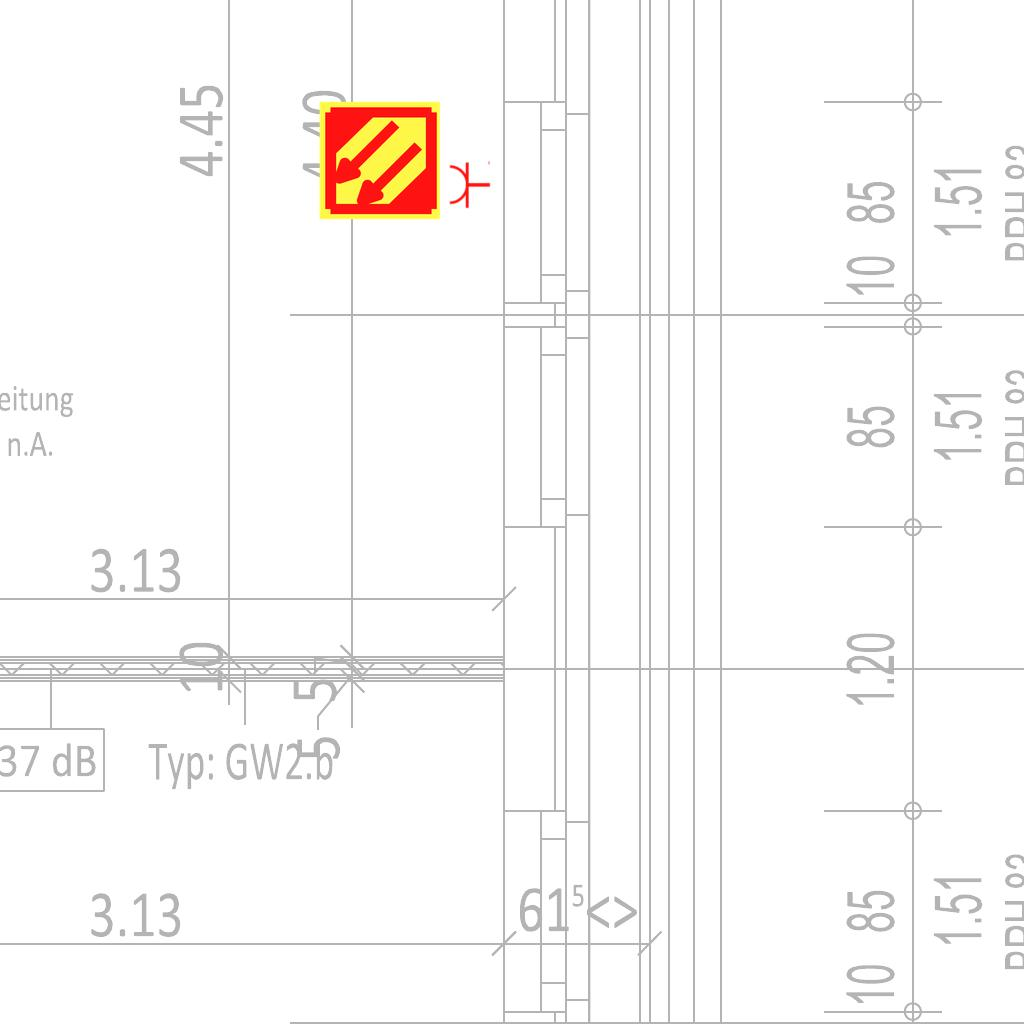ASR_Ansaugrauchmelder: (317, 98, 442, 223)
Schukosteckdose_einfach: (448, 159, 491, 209)
